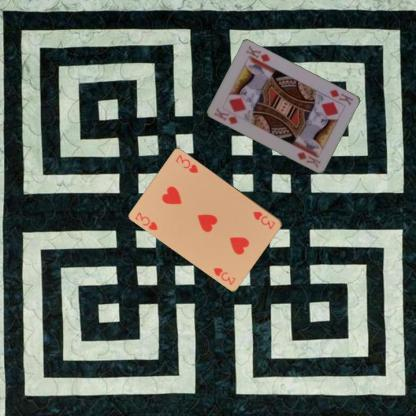3h: (132, 209, 160, 232), (251, 208, 277, 230)
Kd: (212, 106, 239, 126), (327, 87, 354, 106)
